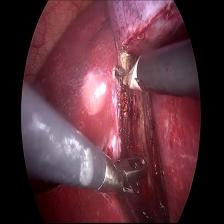Grasper: (100, 148, 150, 204)
Hook: (110, 53, 146, 102)
